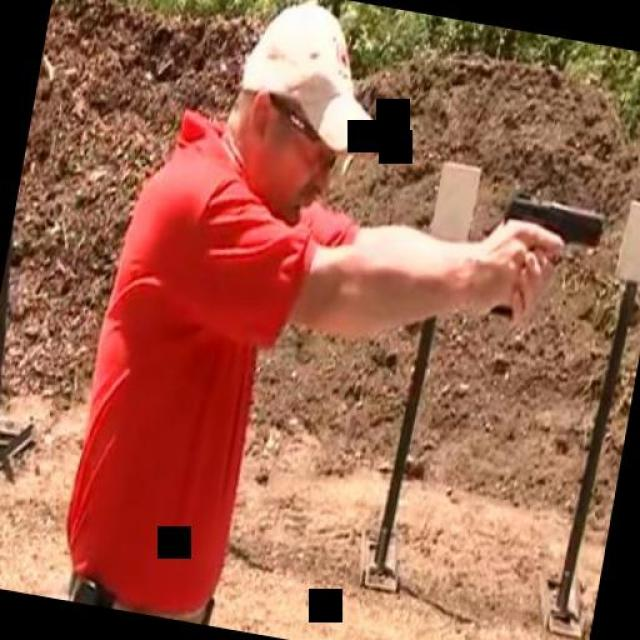gun: (482, 188, 608, 332)
